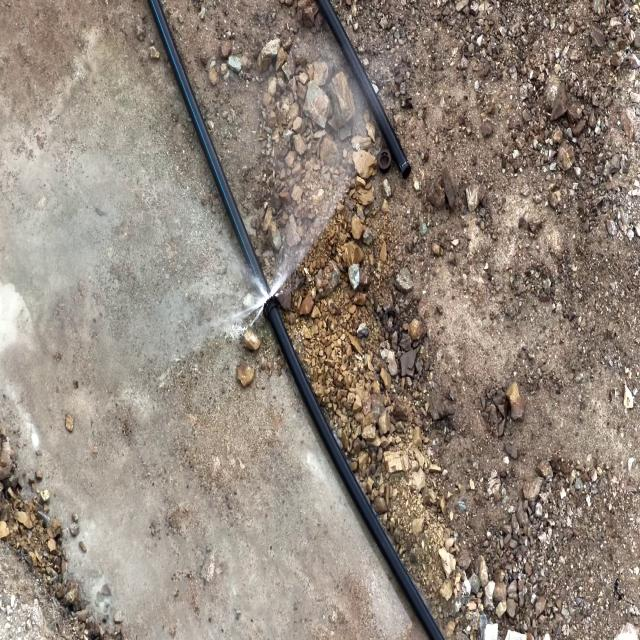leak: (170, 198, 343, 342)
